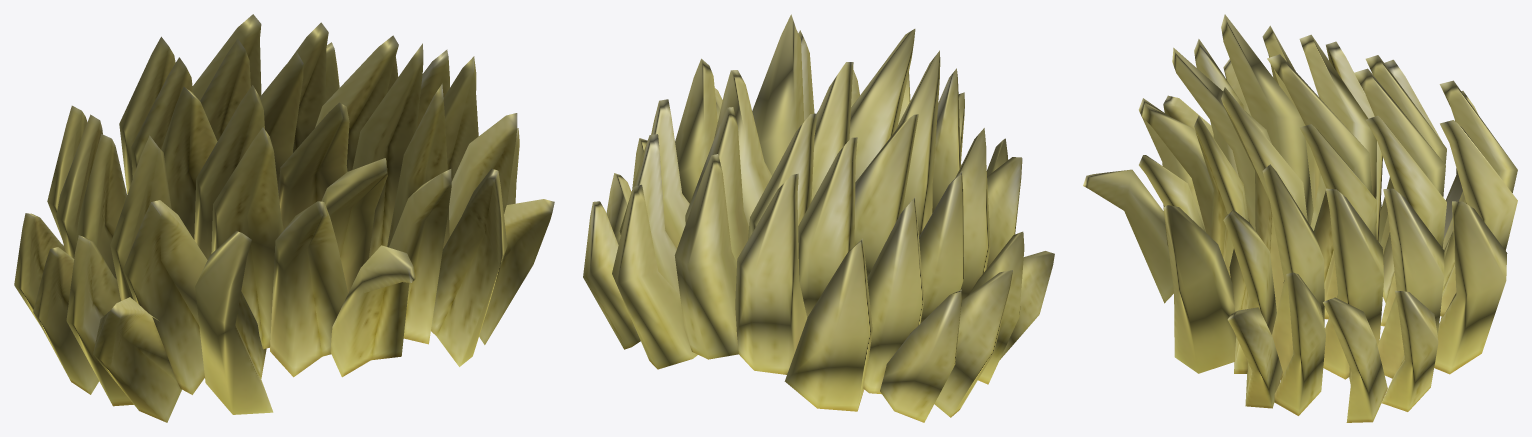
The picture shows the model from 3 angles, left to right: view 1: azimuth 30°, elevation 25°; view 2: azimuth 150°, elevation 25°; view 3: azimuth 270°, elevation 25°; orthographic projection. The views are drawn at different scales.
Parts seen in each view (by area): view 1: geometry_0; view 2: geometry_0; view 3: geometry_0.
Boxes of the visible parts, left/top/right/bottom form: geometry_0: left=14, top=14, right=554, bottom=422; geometry_0: left=583, top=14, right=1054, bottom=422; geometry_0: left=1083, top=14, right=1517, bottom=422.
Size of the model in its own units: 1.4 by 0.9915 by 1.32.
1 material, 1 textured.
